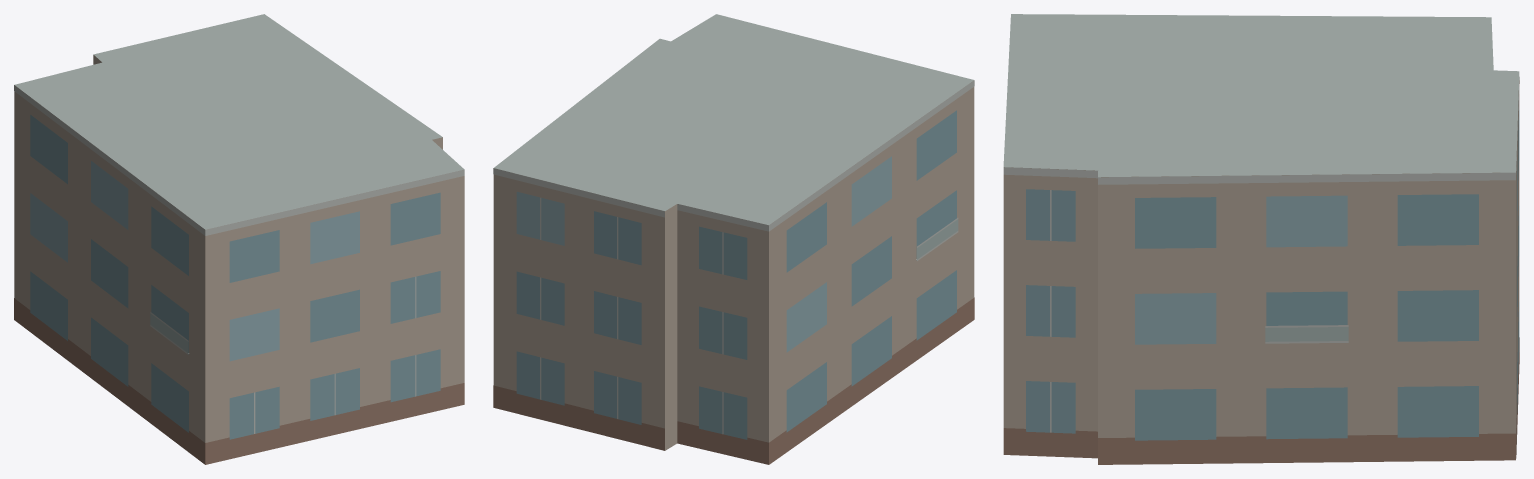
File: survey-upis-32949132.glb
The picture shows the model from 3 angles, left to right: view 1: azimuth 30°, elevation 25°; view 2: azimuth 150°, elevation 25°; view 3: azimuth 270°, elevation 25°; orthographic projection. The views are drawn at different scales.
Visible parts, largest first — view 1: survey-upis-32949132.tmp; view 2: survey-upis-32949132.tmp; view 3: survey-upis-32949132.tmp.
Part boxes in pixels (bbox=[...]): survey-upis-32949132.tmp: bbox=[14, 14, 464, 464]; survey-upis-32949132.tmp: bbox=[493, 14, 974, 464]; survey-upis-32949132.tmp: bbox=[1003, 14, 1519, 464].
Bounding box in the file's own units: 11.15 × 9.15 × 14.88.
